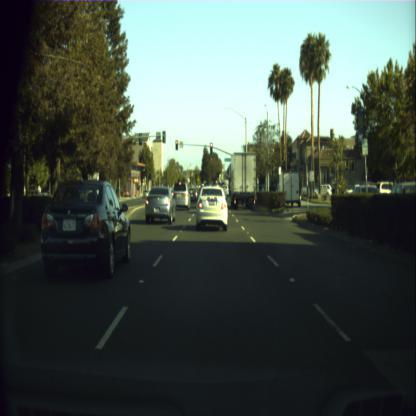Red: (209, 142, 212, 152)
RedLeft: (175, 140, 178, 150)
